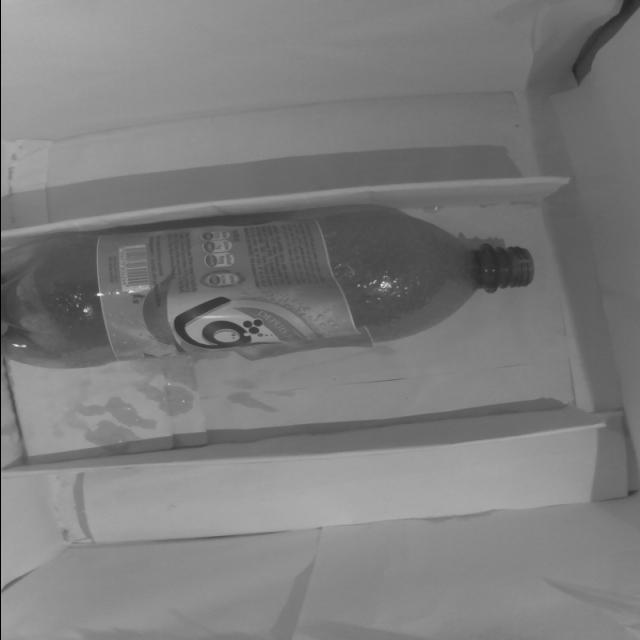good: (0, 198, 558, 382)
